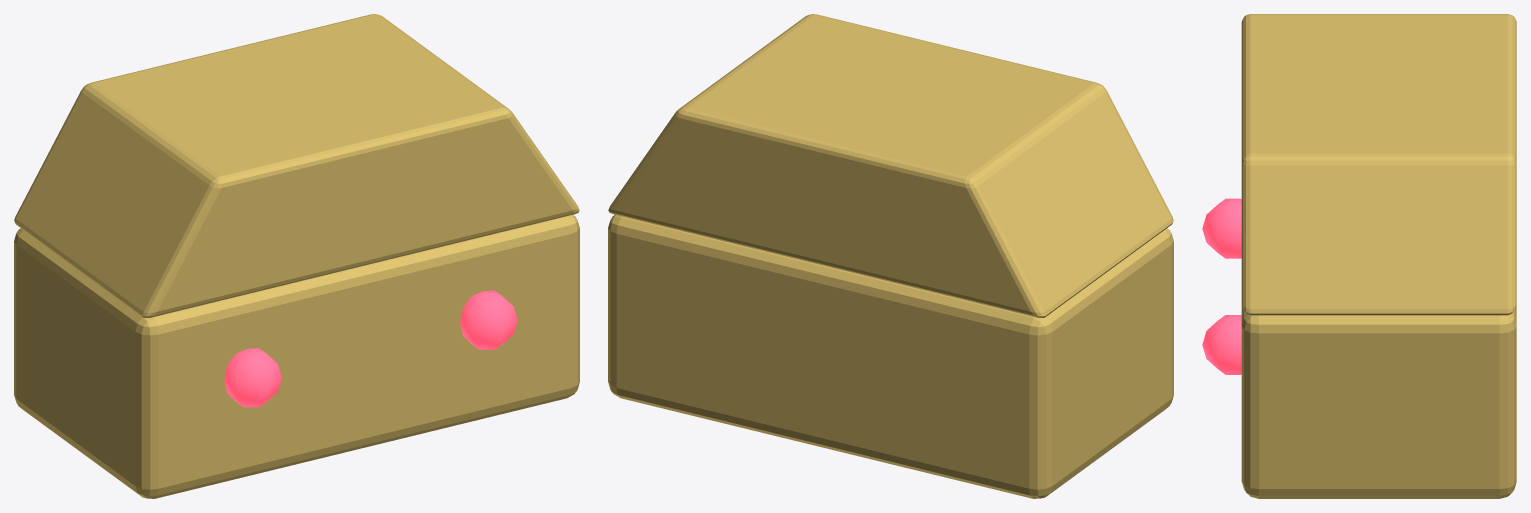
The model's file is reliquary_casket.glb.
The picture shows the model from 3 angles, left to right: view 1: azimuth 30°, elevation 25°; view 2: azimuth 150°, elevation 25°; view 3: azimuth 270°, elevation 25°; orthographic projection.
Parts seen in each view (by area): view 1: GD_reliquary_casket__m0, GD_reliquary_casket__m1; view 2: GD_reliquary_casket__m0; view 3: GD_reliquary_casket__m0, GD_reliquary_casket__m1.
Boxes of the visible parts, x1,y1,x2,y2 form: GD_reliquary_casket__m0: (14,14,579,498); GD_reliquary_casket__m1: (224,290,517,407); GD_reliquary_casket__m0: (608,14,1173,498); GD_reliquary_casket__m0: (1241,14,1516,498); GD_reliquary_casket__m1: (1202,198,1241,374).
Bounding box in the file's own units: 0.3 × 0.2 × 0.183.
